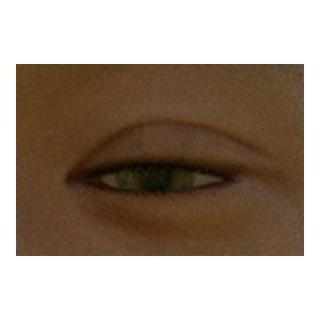pupil: (140, 160, 172, 191)
